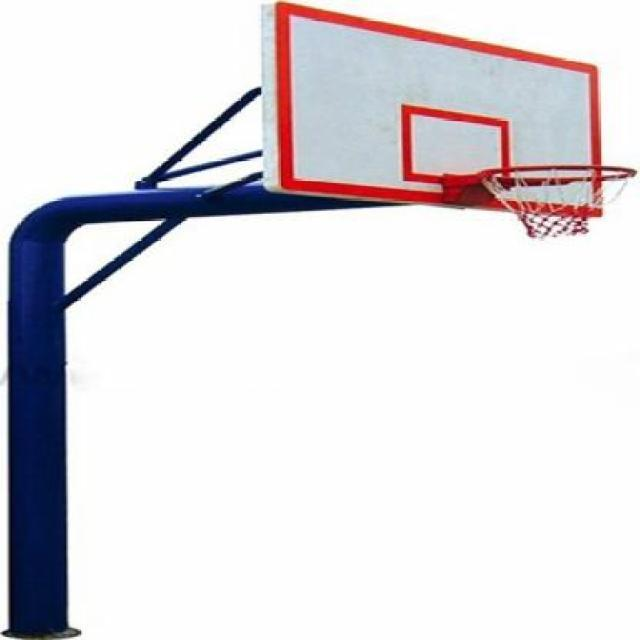rim: (488, 162, 636, 242)
